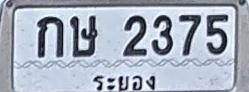2: (123, 15, 147, 56)
3: (151, 14, 173, 55)
5: (206, 13, 228, 54)
7: (178, 14, 200, 56)
A01: (36, 16, 64, 57)
A39: (70, 15, 98, 57)
RYG: (89, 71, 158, 92)
